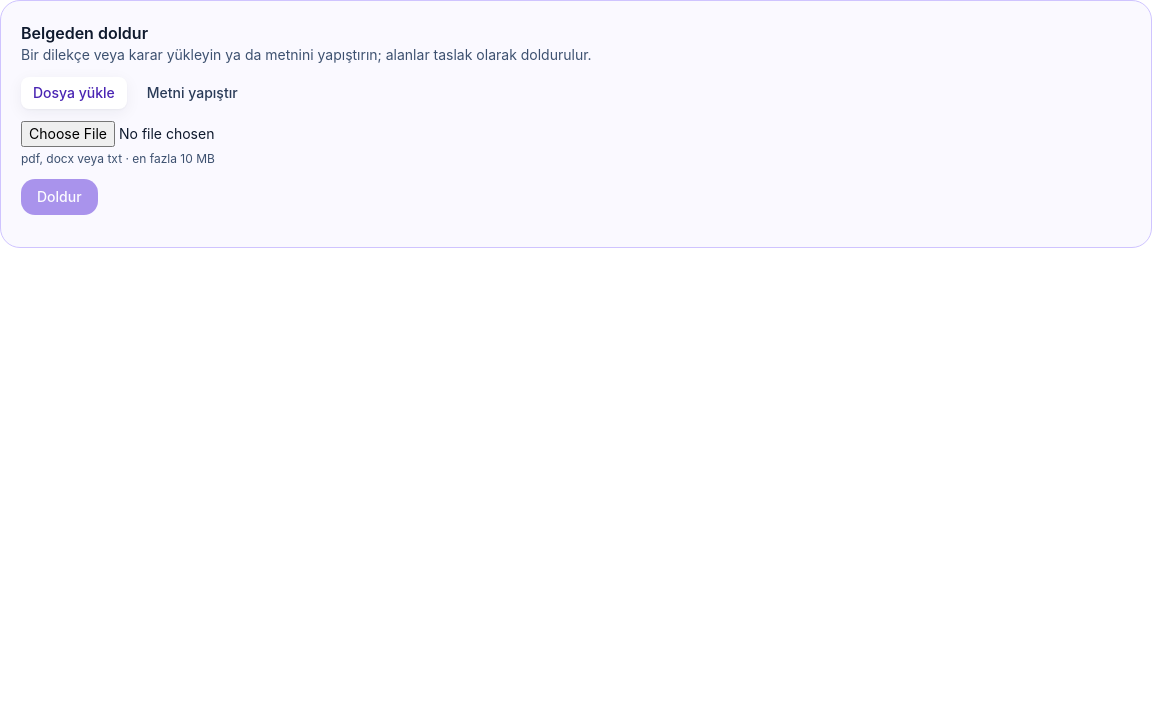
it: IntakeFillBox › asks before overwriting a filled form and applies the draft only after confirmation
Click the tab "Metni yapıştır" at x=192, y=93, box [135,77,250,109]
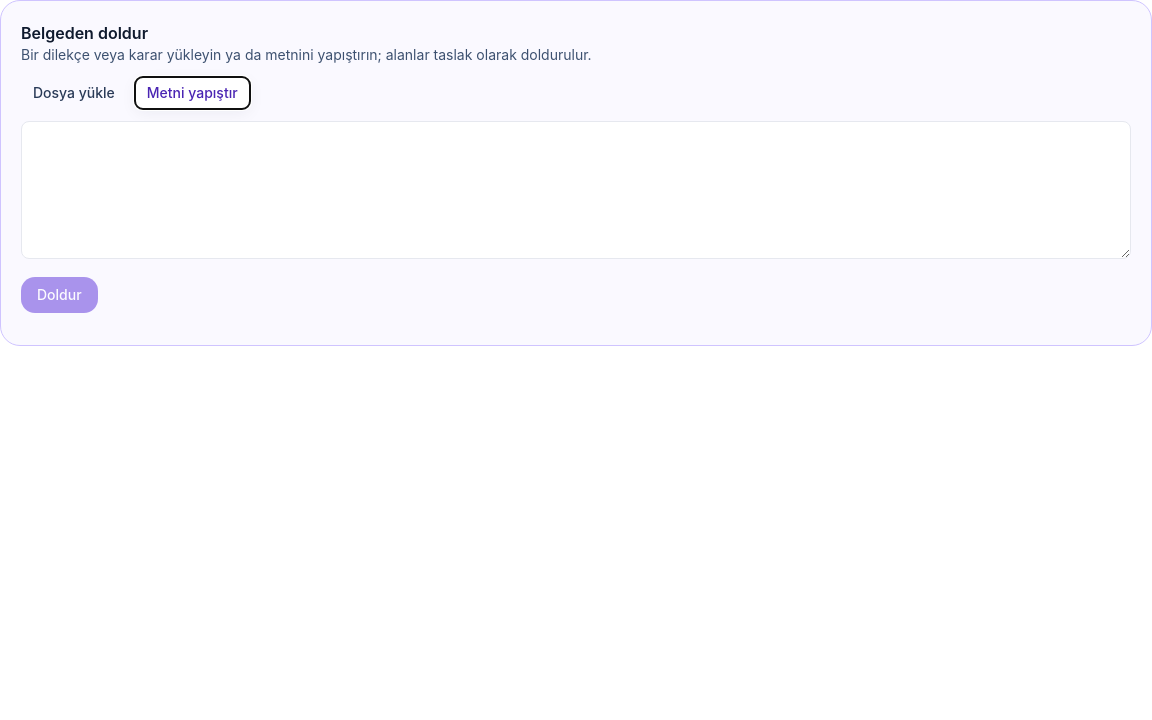
Type "Davacı vekili dilekçesi" into the text box named "Belge metni" at x=576, y=190, box [21,121,1131,259]
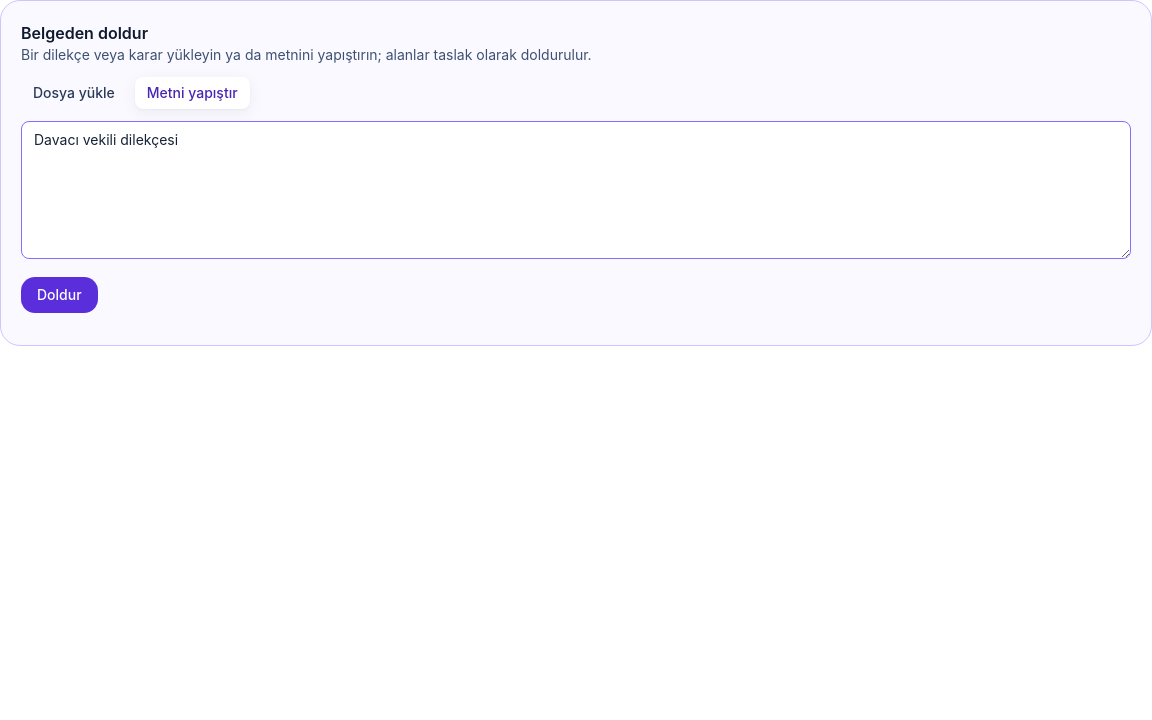
Click the button "Doldur" at x=59, y=295, box [21,277,98,313]
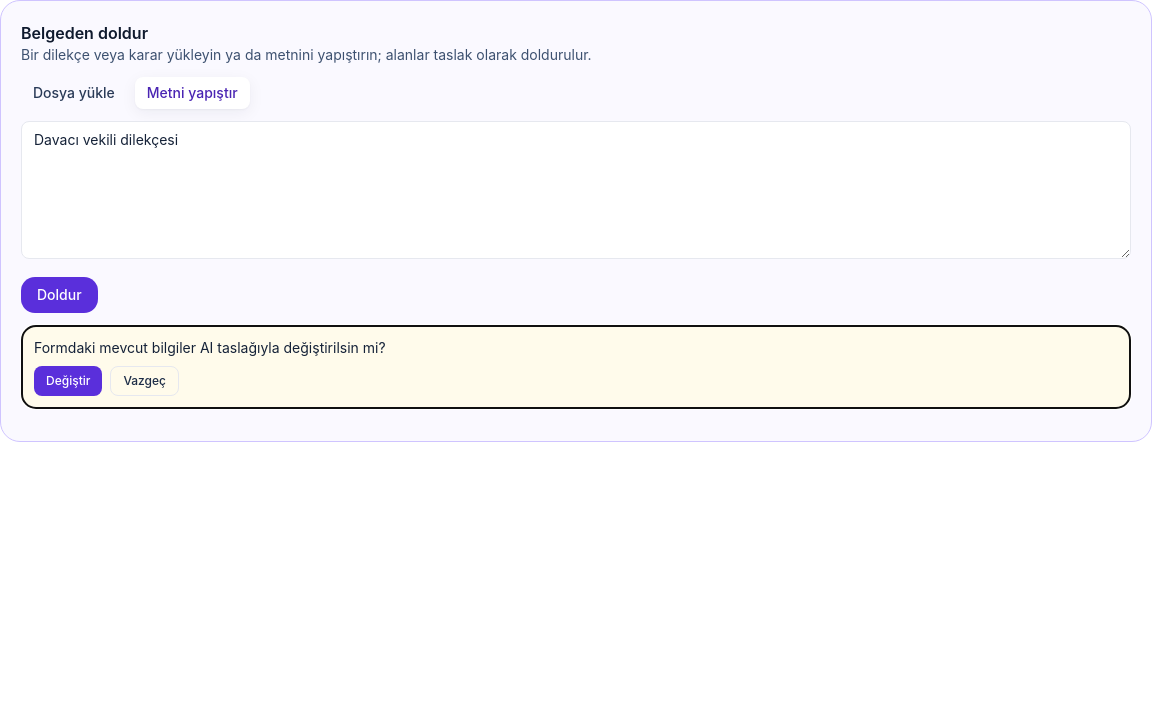
Expected: the text "Formdaki mevcut bilgiler AI taslağıyla değiştirilsin mi?" is shown, [34,339,386,356]
Click the button "Değiştir" at x=68, y=381, box [34,366,102,396]
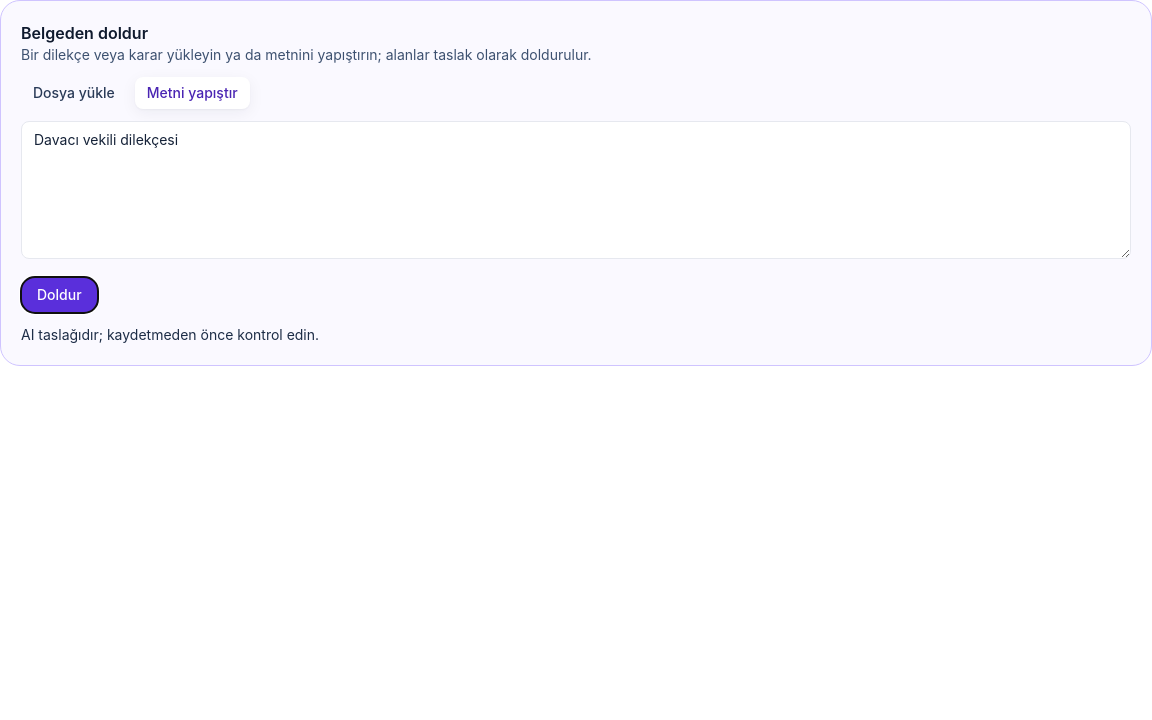
Expected: the text "Formdaki mevcut bilgiler AI taslağıyla değiştirilsin mi?" is gone
Expected: the text "AI taslağıdır; kaydetmeden önce kontrol edin." is shown, [21,326,319,343]
